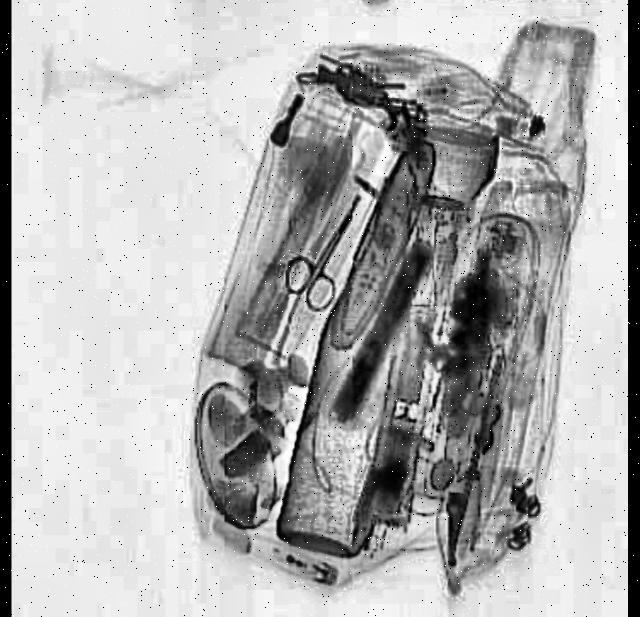Scissors: (278, 175, 386, 314)
